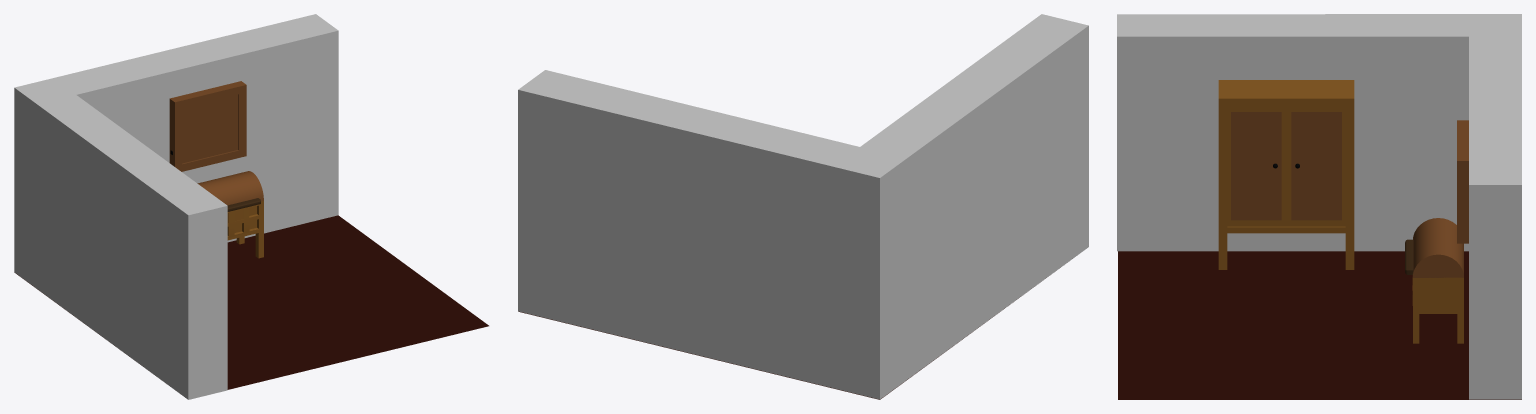
Rendered from Corner 1.fbx.
The picture shows the model from 3 angles, left to right: view 1: azimuth 30°, elevation 25°; view 2: azimuth 150°, elevation 25°; view 3: azimuth 270°, elevation 25°; orthographic projection. The views are drawn at different scales.
Visible parts, largest first — view 1: Cube, Plane, Cube.008, Cylinder, Cube.009; view 2: Cube; view 3: Cube, Plane, Cube.001, Cube.003, Cube.007, Cylinder, Cube.009, Cube.008.
Boxes of the visible parts, x1,y1,x2,y2 form: Cube: (14, 14, 338, 399); Plane: (14, 215, 488, 389); Cube.008: (169, 81, 246, 171); Cylinder: (197, 171, 263, 211); Cube.009: (227, 200, 263, 258); Cube: (518, 14, 1088, 399); Cube: (1117, 14, 1521, 399); Plane: (1118, 251, 1521, 399); Cube.001: (1218, 80, 1354, 269); Cube.003: (1291, 112, 1341, 220); Cube.007: (1231, 112, 1281, 220); Cylinder: (1405, 218, 1463, 277); Cube.009: (1412, 277, 1463, 343); Cube.008: (1457, 120, 1468, 243).
Bounding box in the file's own units: 886 × 519 × 885.
